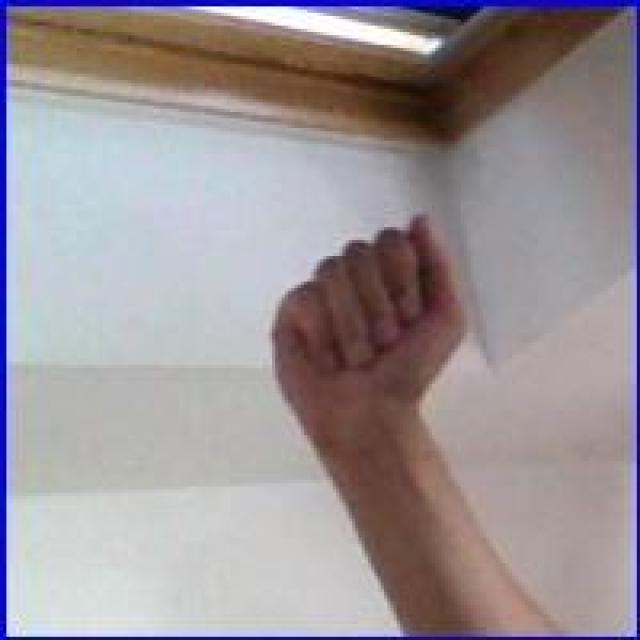A: (269, 211, 470, 445)
